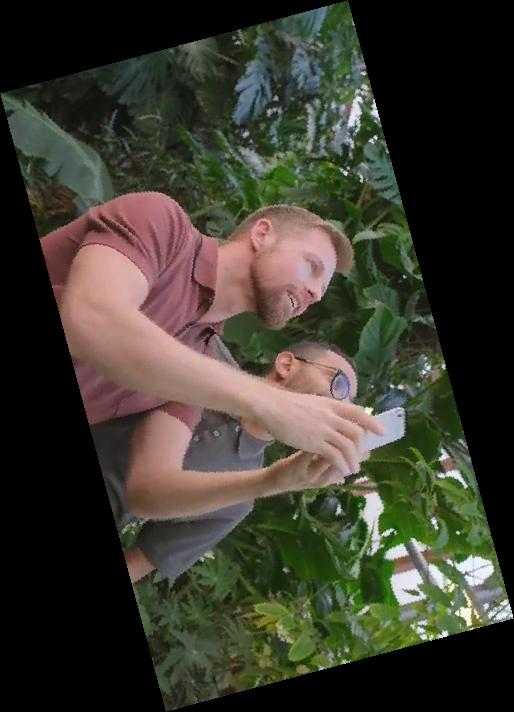phone: (358, 402, 411, 451)
